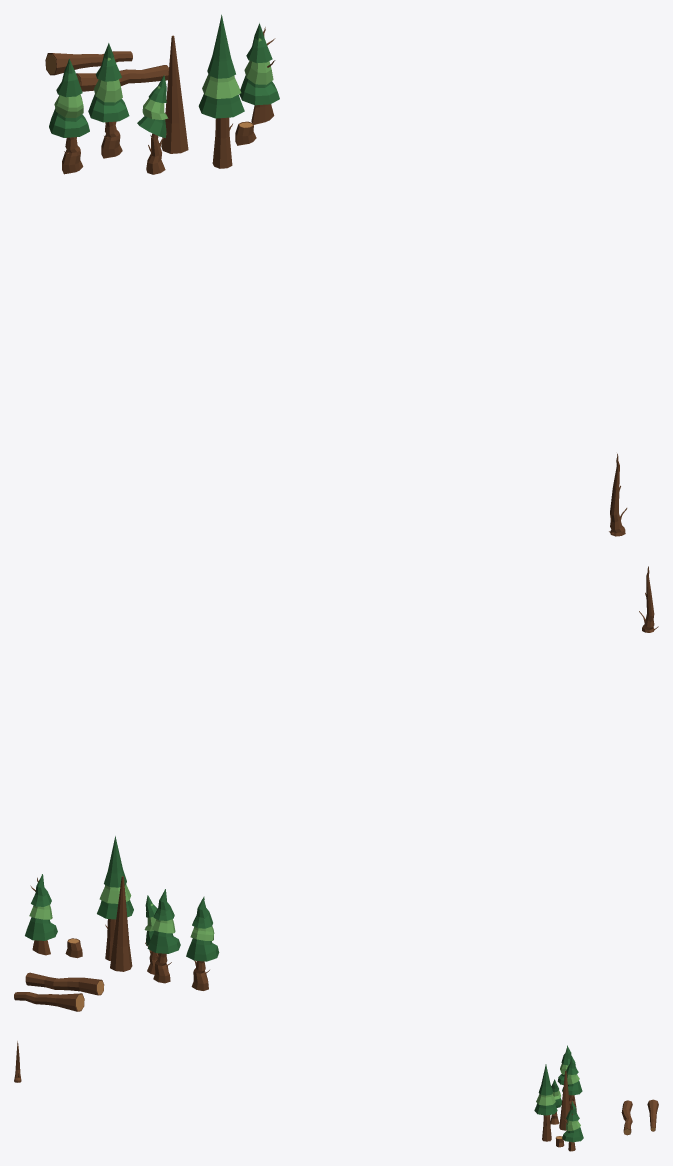
File: Tree.fbx
The picture shows the model from 3 angles, top to bottom: view 1: azimuth 30°, elevation 25°; view 2: azimuth 150°, elevation 25°; view 3: azimuth 270°, elevation 25°; orthographic projection. The views are drawn at different scales.
Parts seen in each view (by area): view 1: Tree3, Tree1.001, Tree1, Tree4, Tree2, TreeTrunk.001, TreeTrunk, TreeTrunk.002; view 2: Tree3, Tree1.001, Tree1, Tree4, TreeTrunk.002, TreeTrunk.001, TreeTrunk; view 3: Tree3, Tree4, Tree1, TreeTrunk.002, TreeTrunk, TreeTrunk.001, Tree1.001, Tree2.
Boxes of the visible parts, bbox=[...] form: Tree3: bbox=[198, 14, 244, 138]; Tree1.001: bbox=[49, 59, 89, 156]; Tree1: bbox=[88, 43, 129, 140]; Tree4: bbox=[239, 23, 279, 105]; Tree2: bbox=[137, 75, 168, 156]; TreeTrunk.001: bbox=[45, 51, 132, 75]; TreeTrunk: bbox=[165, 35, 184, 123]; TreeTrunk.002: bbox=[76, 65, 168, 91]; Tree3: bbox=[97, 836, 133, 937]; Tree1.001: bbox=[186, 896, 219, 976]; Tree1: bbox=[147, 889, 180, 968]; Tree4: bbox=[25, 874, 57, 940]; TreeTrunk.002: bbox=[25, 972, 104, 995]; TreeTrunk.001: bbox=[14, 992, 84, 1011]; TreeTrunk: bbox=[113, 876, 129, 947]; Tree3: bbox=[534, 1064, 557, 1126]; Tree4: bbox=[562, 1101, 583, 1142]; Tree1: bbox=[562, 1055, 582, 1105]; TreeTrunk.002: bbox=[621, 1100, 632, 1135]; TreeTrunk: bbox=[561, 1071, 570, 1115]; TreeTrunk.001: bbox=[647, 1099, 658, 1131]; Tree1.001: bbox=[557, 1045, 571, 1095]; Tree2: bbox=[551, 1079, 561, 1115].
Size of the model in its own units: 52.06 by 32.69 by 253.
